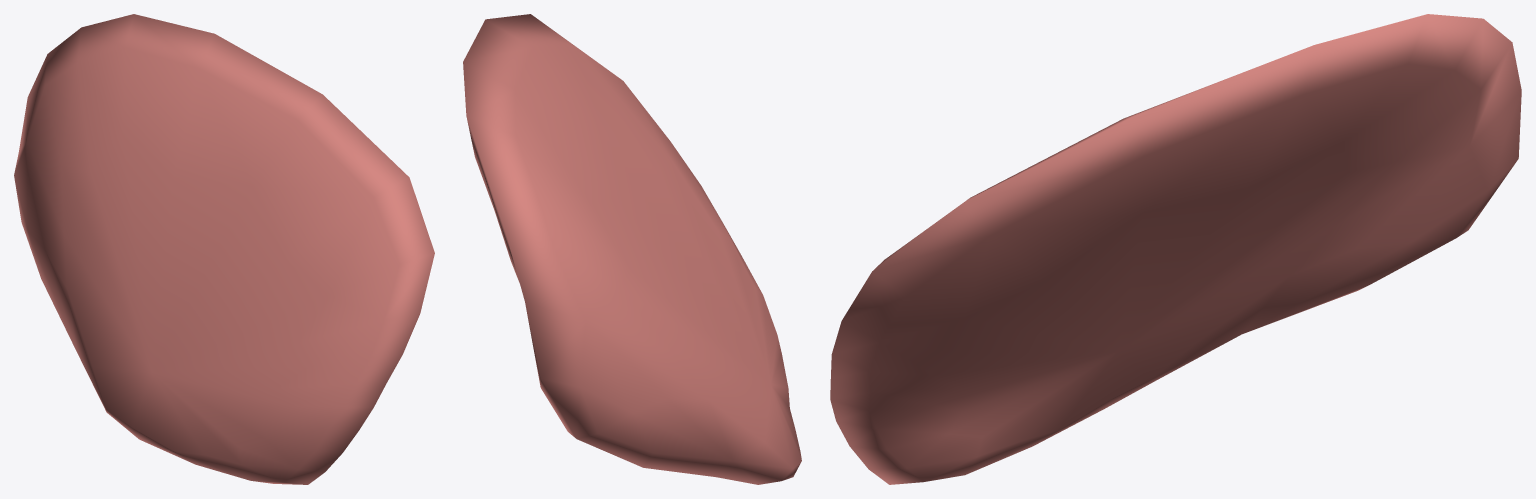
The picture shows the model from 3 angles, left to right: view 1: azimuth 30°, elevation 25°; view 2: azimuth 150°, elevation 25°; view 3: azimuth 270°, elevation 25°; orthographic projection. The views are drawn at different scales.
Visible parts, largest first — view 1: ZA_648039acca207274; view 2: ZA_648039acca207274; view 3: ZA_648039acca207274.
Part boxes in pixels (<box>): ZA_648039acca207274: <box>14,14,434,484</box>; ZA_648039acca207274: <box>463,14,801,484</box>; ZA_648039acca207274: <box>830,14,1521,484</box>.
Bounding box in the file's own units: 0.00278 × 0.00368 × 0.00473.
